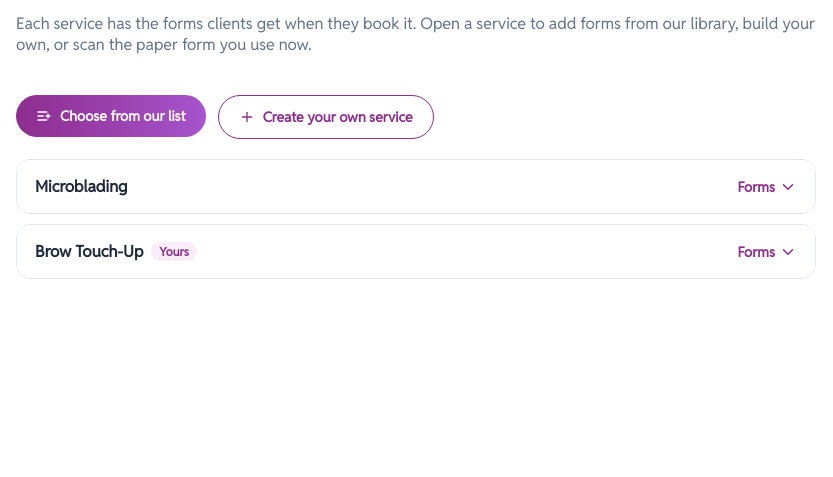
ServicesPage › explains a duplicate name
The width and height of the screenshot is (833, 477).
Click the button "Create your own service" at coordinates (326, 117), box [218,95,434,139]
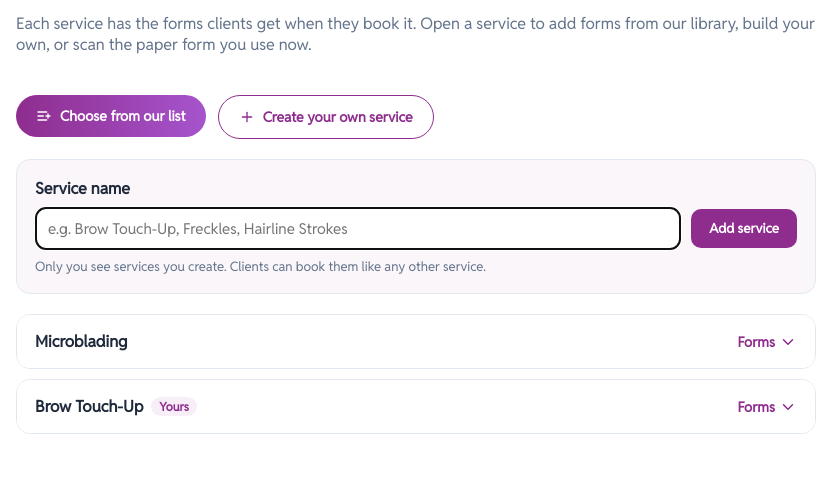
Type "microblading" into the field labelled "Service name" at coordinates (358, 228), box [35,207,681,250]
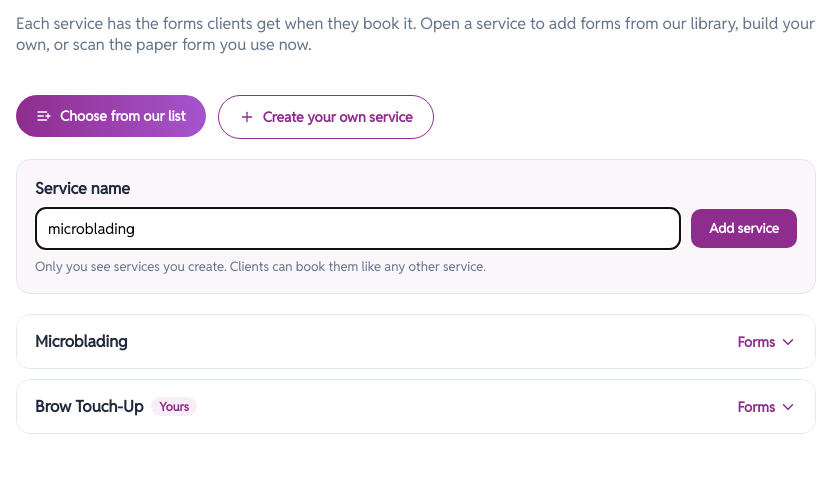
Click the button "Add service" at coordinates (744, 228), box [691,209,797,248]
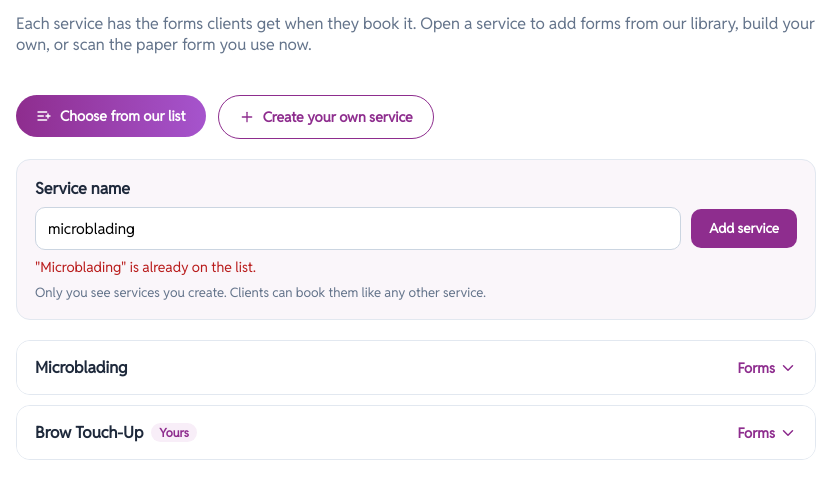
Now the message shows "already on the list", box [35,258,256,276]
